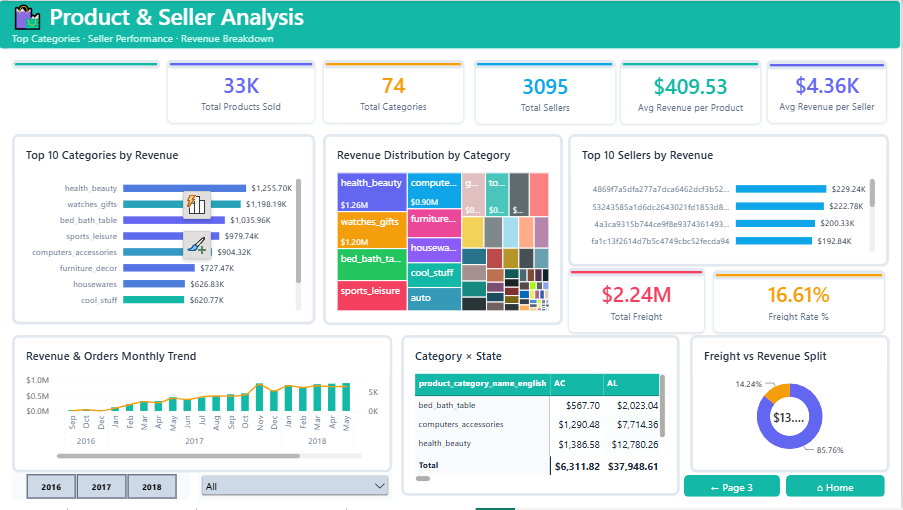

This screenshot's page, from the dashboard's own definition file:
{"tool":"powerbi","page":{"name":"Product & Seller","canvas":[1280,720],"ordinal":3},"visuals":[{"type":"shape","box":[0,0,1280,70],"z":0},{"type":"textbox","box":[20,0,700.8,64.4],"z":1000},{"type":"textbox","box":[20,44,700,20],"z":2000},{"type":"card","fields":{"Values":["Orders.Total Revenue"]},"box":[41.1,270.7,210,90],"z":3000},{"type":"card","fields":{"Values":["Sellers.Total Sellers"]},"box":[675.8,85.8,200,90],"z":4000},{"type":"card","fields":{"Values":["Orders.Total Categories"]},"box":[460,85,200,90],"z":5000},{"type":"card","fields":{"Values":["Orders.Total Products Sold"]},"box":[240,85,210,90],"z":6000},{"type":"card","fields":{"Values":["Orders.Avg Revenue per Product"]},"box":[881.3,85.8,200,90],"z":7000},{"type":"shape","box":[20,85,210,12],"z":8000},{"type":"shape","box":[240,85,210,12],"z":9000},{"type":"shape","box":[460,85,200,12],"z":10000},{"type":"shape","box":[675,85,200,12],"z":11000},{"type":"shape","box":[881,85,200,12],"z":12000},{"type":"donutChart","title":"Freight vs Revenue Split","fields":{"Y":["Orders.Total Revenue","Orders.Total Freight"]},"box":[980.3,475.2,282.5,195.5],"z":13000},{"type":"clusteredBarChart","title":"Top 10 Categories by Revenue","fields":{"Category":["Products.product_category_name_english"],"Y":["Orders.Total Revenue"]},"box":[20,190,430,270],"z":14000},{"type":"lineClusteredColumnComboChart","title":"Revenue & Orders Monthly Trend","fields":{"Category":["DateTable.Year","DateTable.Month"],"Y":["Orders.Total Revenue"],"Y2":["Orders.Total Orders"]},"box":[20,475.2,539.4,195.5],"z":15000},{"type":"slicer","fields":{"Values":["DateTable.Year"]},"box":[19.7,670.4,252.1,37.5],"z":16000},{"type":"slicer","fields":{"Values":["Products.product_category_name_english"]},"box":[284,669.3,275.4,40],"z":17000},{"type":"actionButton","box":[1117.3,673,140,31],"z":18000},{"type":"clusteredBarChart","title":"Top 10 Sellers by Revenue","fields":{"Category":["Order Items.seller_id"],"Y":["Orders.Total Revenue"]},"box":[807.7,189.8,455.2,188.4],"z":19000},{"type":"actionButton","box":[972,673,136,31],"z":20000},{"type":"card","fields":{"Values":["Orders.Avg Revenue per Seller"]},"box":[1090,85,170,90],"z":21000},{"type":"shape","box":[1090,85.8,170,12],"z":22000},{"type":"treemap","title":"Revenue Distribution by Category","fields":{"Group":["Products.product_category_name_english"],"Values":["Orders.Total Revenue"]},"box":[460.6,189.9,340.2,270.7],"z":23000},{"type":"card","fields":{"Values":["Orders.Total Freight"]},"box":[807.7,382,194.1,89],"z":24000},{"type":"card","fields":{"Values":["Orders.Freight Rate %"]},"box":[1013.2,382,243,89],"z":25000},{"type":"shape","box":[807.7,379.6,194,12],"z":26000},{"type":"pivotTable","title":"Category × State","fields":{"Columns":["Customers.customer_state"],"Rows":["Products.product_category_name_english"],"Values":["Orders.Total Revenue"]},"box":[570.8,475.2,395.3,228.3],"z":26000},{"type":"shape","box":[1013.2,383.9,244,12],"z":27000}]}

Visuals, with their boxes in screenshot pixels (x1, y1, x2, y2), scaled from the page's 1280x720 canvas onto the 903x510 screenshot:
shape: <region>0, 0, 902, 50</region>
textbox: <region>14, 0, 509, 46</region>
textbox: <region>14, 31, 508, 45</region>
card - Orders.Total Revenue: <region>29, 192, 177, 255</region>
card - Sellers.Total Sellers: <region>477, 61, 618, 125</region>
card - Orders.Total Categories: <region>325, 60, 466, 124</region>
card - Orders.Total Products Sold: <region>169, 60, 317, 124</region>
card - Orders.Avg Revenue per Product: <region>622, 61, 763, 125</region>
shape: <region>14, 60, 162, 69</region>
shape: <region>169, 60, 317, 69</region>
shape: <region>325, 60, 466, 69</region>
shape: <region>476, 60, 617, 69</region>
shape: <region>622, 60, 763, 69</region>
"Freight vs Revenue Split" donutChart: <region>692, 337, 891, 475</region>
"Top 10 Categories by Revenue" clusteredBarChart: <region>14, 135, 317, 326</region>
"Revenue & Orders Monthly Trend" lineClusteredColumnComboChart: <region>14, 337, 395, 475</region>
slicer - DateTable.Year: <region>14, 475, 192, 501</region>
slicer - Products.product_category_name_english: <region>200, 474, 395, 502</region>
actionButton: <region>788, 477, 887, 499</region>
"Top 10 Sellers by Revenue" clusteredBarChart: <region>570, 134, 891, 268</region>
actionButton: <region>686, 477, 782, 499</region>
card - Orders.Avg Revenue per Seller: <region>769, 60, 889, 124</region>
shape: <region>769, 61, 889, 69</region>
"Revenue Distribution by Category" treemap: <region>325, 135, 565, 326</region>
card - Orders.Total Freight: <region>570, 271, 707, 334</region>
card - Orders.Freight Rate %: <region>715, 271, 886, 334</region>
shape: <region>570, 269, 707, 277</region>
"Category × State" pivotTable: <region>403, 337, 682, 498</region>
shape: <region>715, 272, 887, 280</region>
